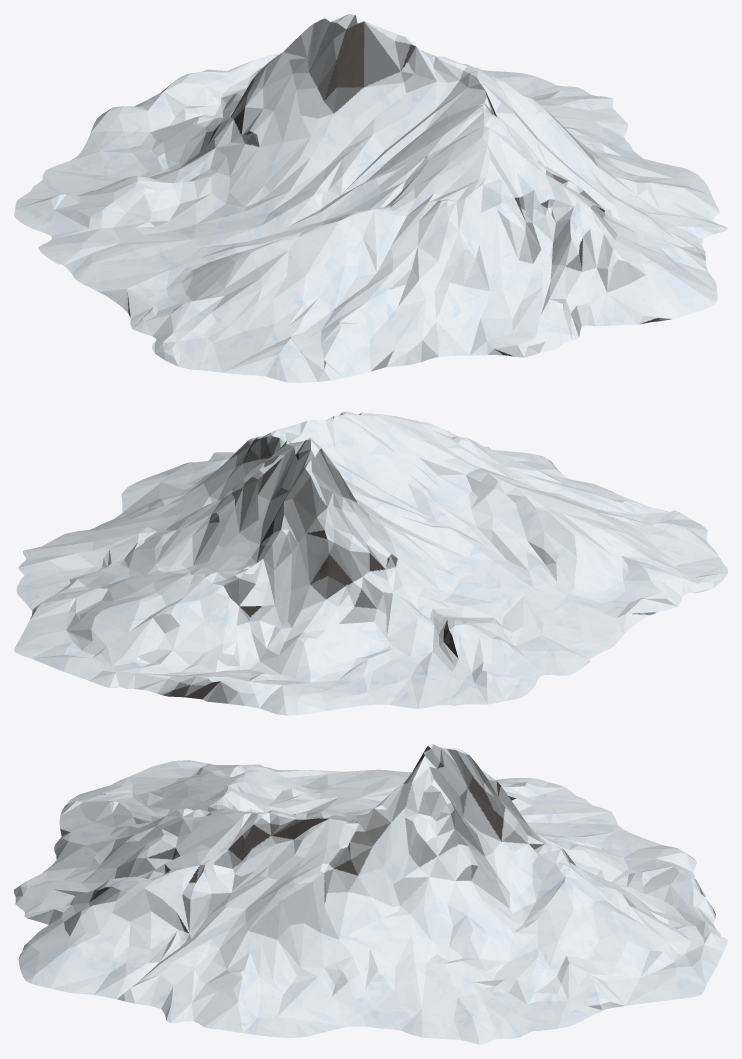
File: mountain_03.gltf
3 renders of one model, top to bottom at view 1: azimuth 30°, elevation 25°; view 2: azimuth 150°, elevation 25°; view 3: azimuth 270°, elevation 25°, orthographic. The views are drawn at different scales.
Visible parts, largest first — view 1: mountain_03; view 2: mountain_03; view 3: mountain_03.
Part boxes in pixels (box(x1,y1,x2,y2)): mountain_03: box(14, 14, 727, 382); mountain_03: box(14, 411, 727, 715); mountain_03: box(14, 744, 727, 1044).
Size of the model in its own units: 15.54 by 4.24 by 16.57.
Materials: 1 (1 with a texture image).
